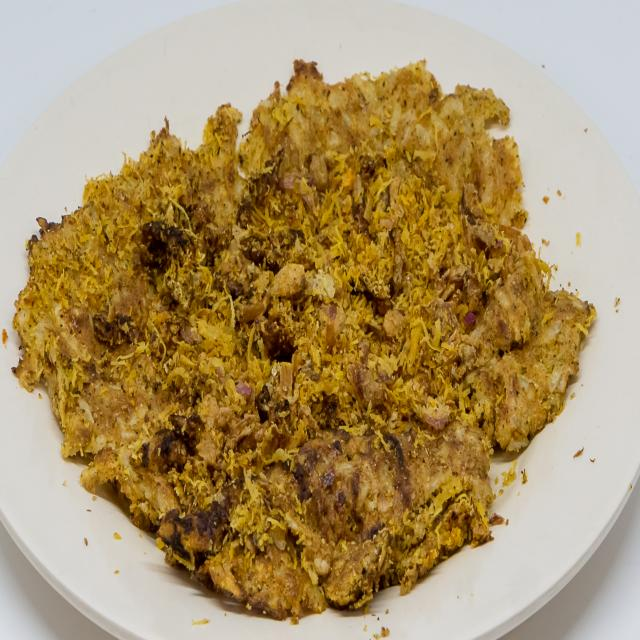Kerak-Telor: (15, 45, 598, 622)
